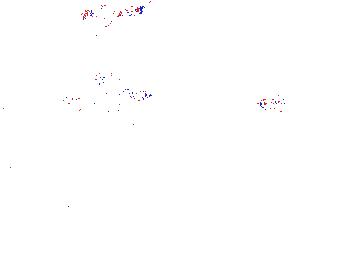glassfish: (59, 93, 156, 148), (1, 94, 73, 143)
red belly glassfish: (256, 95, 315, 114)
redtail glassfish: (87, 79, 154, 103), (79, 4, 148, 25)
